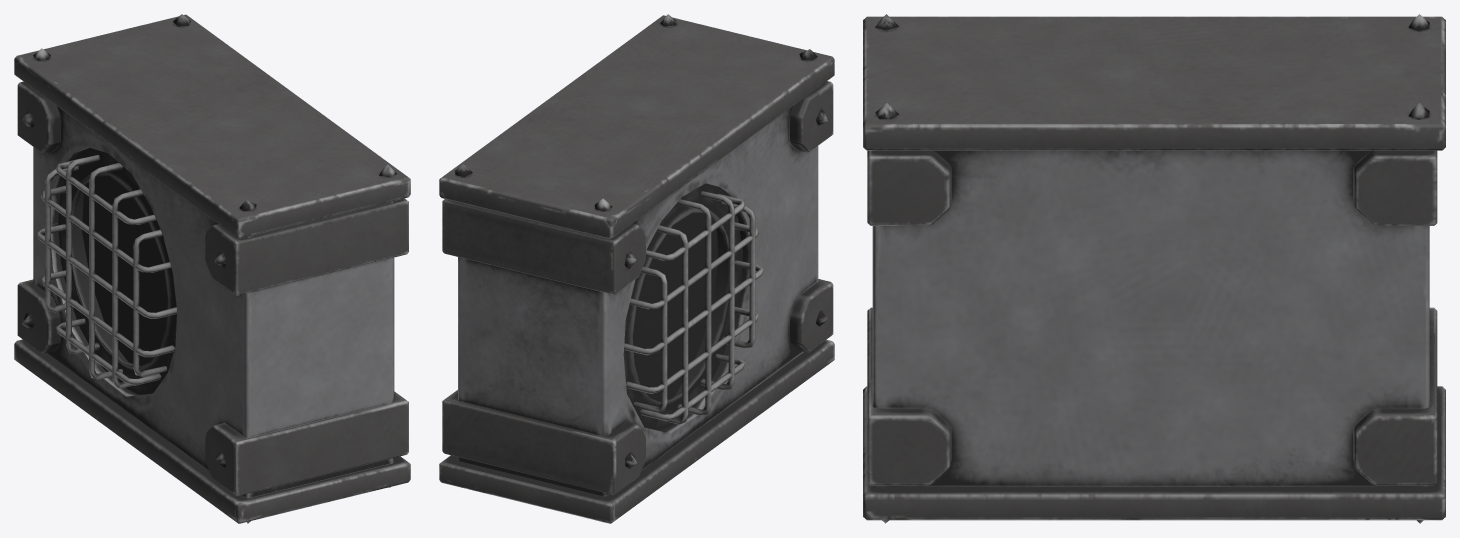
The model's file is SM_air_condition_body_01.fbx.
3 views of the same model, side by side, from view 1: azimuth 30°, elevation 25°; view 2: azimuth 150°, elevation 25°; view 3: azimuth 270°, elevation 25° (orthographic). The views are drawn at different scales.
Visible parts, largest first — view 1: SM_air_condition_body_01_LOD0; view 2: SM_air_condition_body_01_LOD0; view 3: SM_air_condition_body_01_LOD0.
Part boxes in pixels (left/top/right/bottom): SM_air_condition_body_01_LOD0: left=14, top=14, right=410, bottom=523; SM_air_condition_body_01_LOD0: left=439, top=14, right=834, bottom=523; SM_air_condition_body_01_LOD0: left=863, top=14, right=1445, bottom=523.
Bounding box in the file's own units: 44.86 × 94 × 74.98.
Materials: 1 (1 with a texture image).
